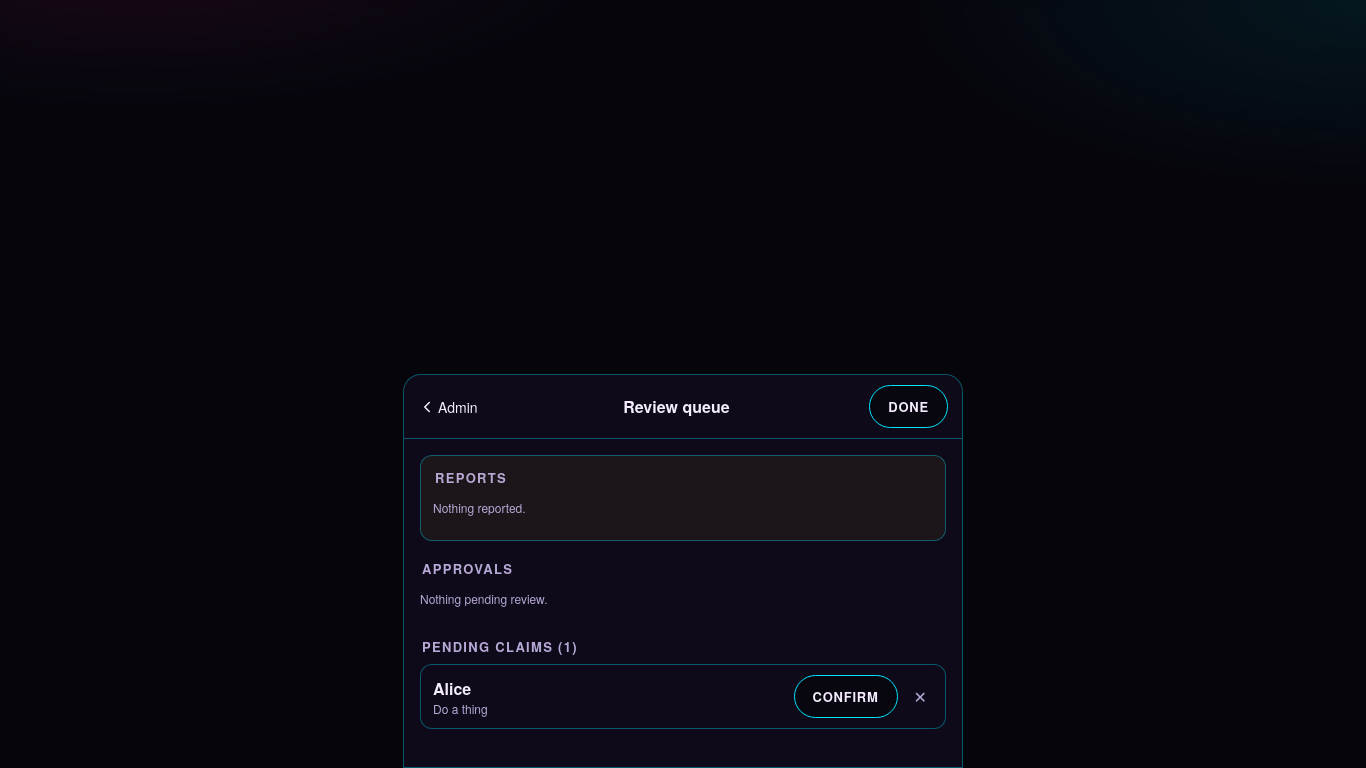
it: AsyncButton affordance on moderation actions (specs/admin-async-feedback.md) › a rejected claim Confirm alerts inline in the Review queue
Click the button "Confirm". click: click(846, 696)
box: [794, 675, 898, 718]
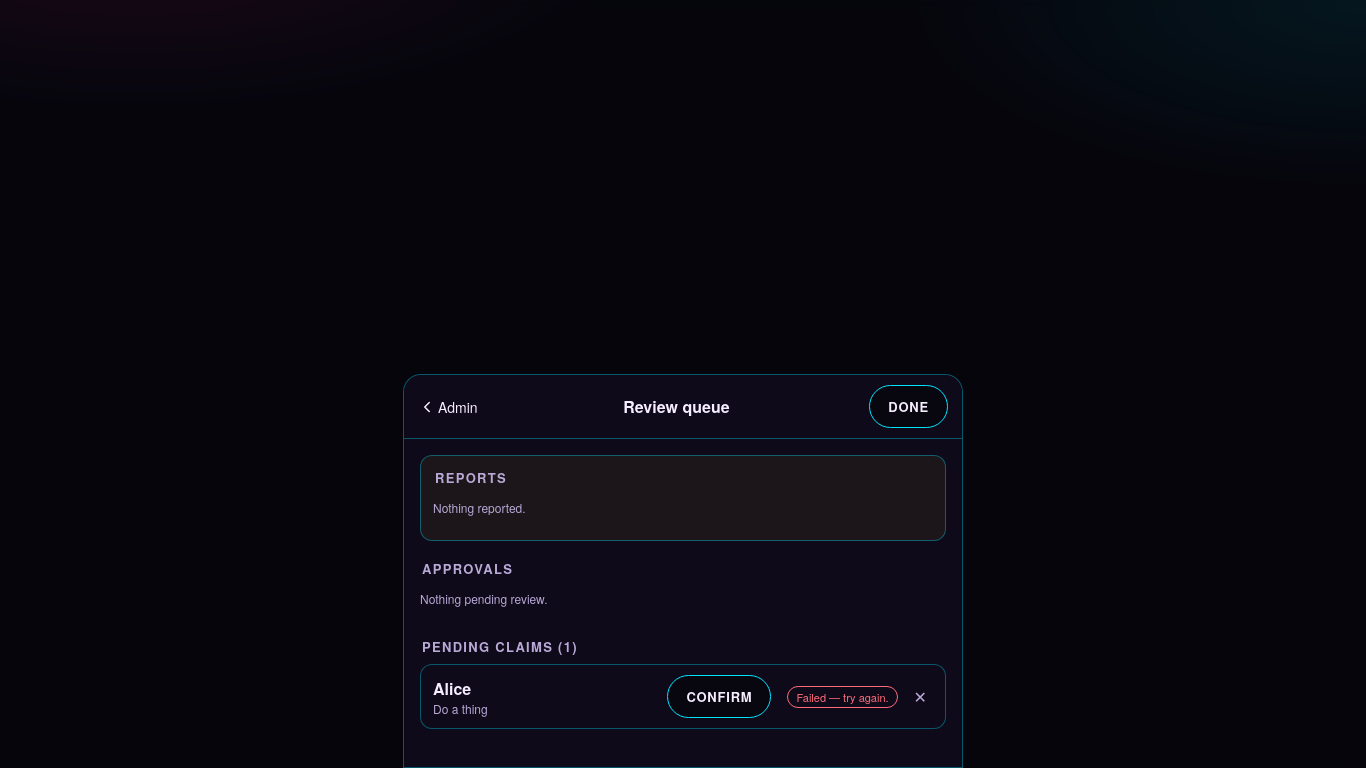
Now the message reads "Failed — try again.", box [796, 688, 889, 704]
